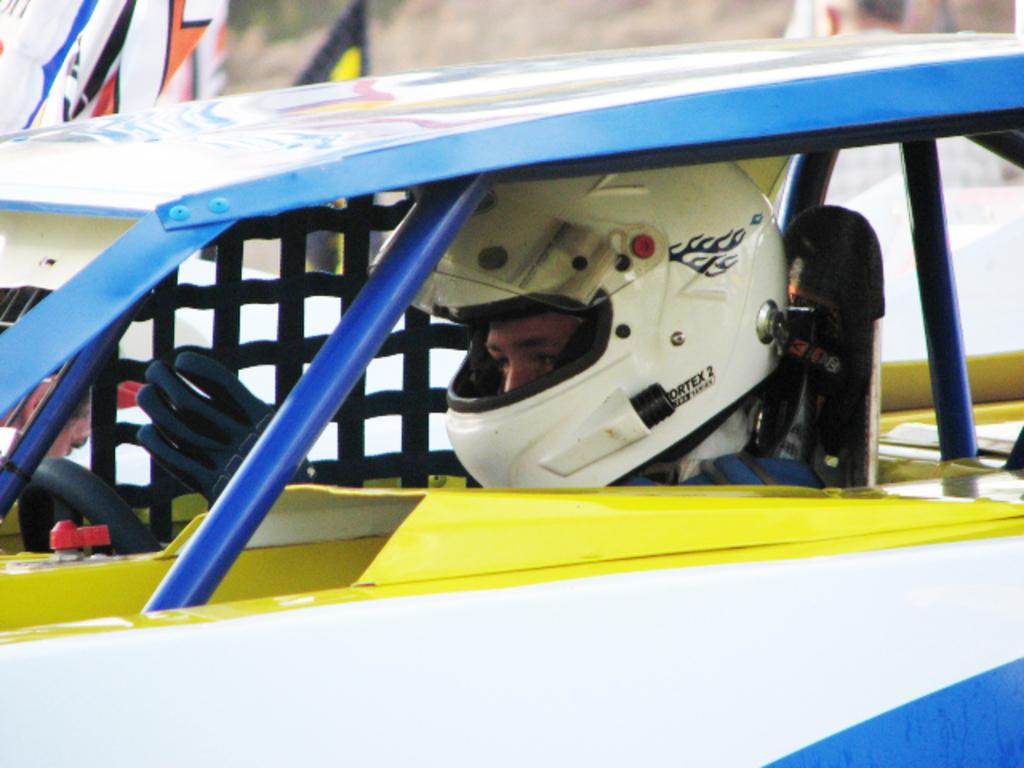helmet: (366, 129, 789, 521)
